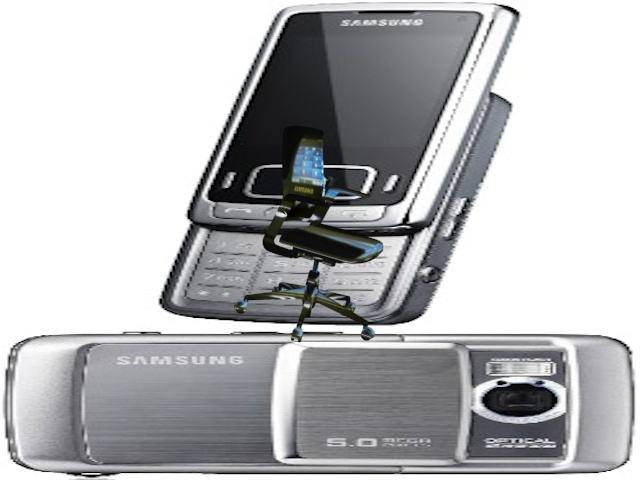desk_chair: (225, 121, 385, 352)
